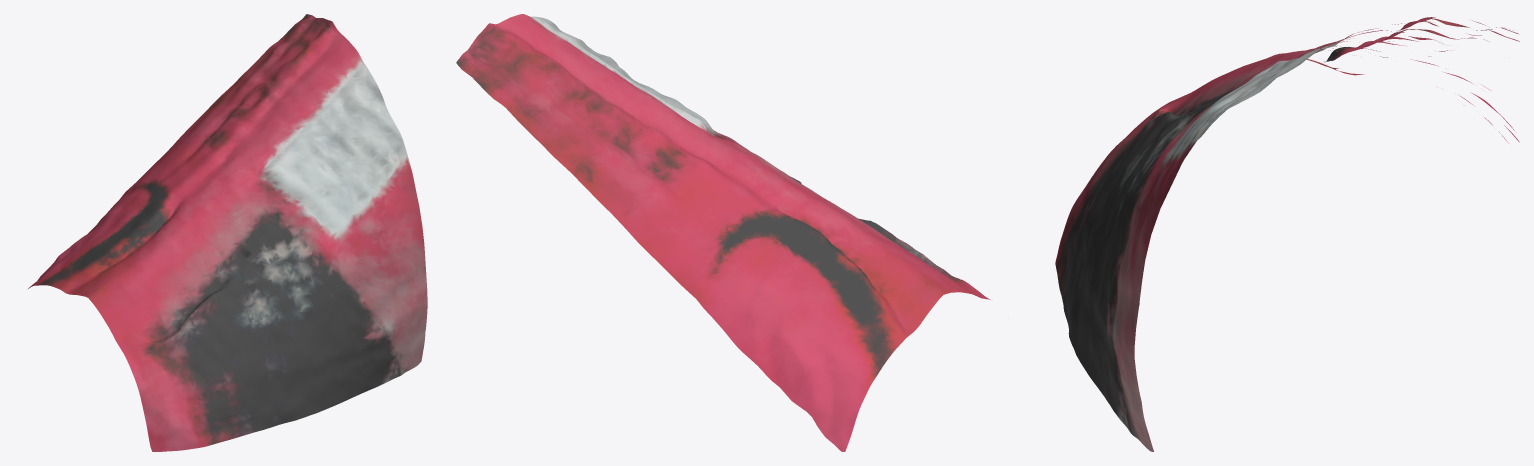
3 renders of one model, left to right at view 1: azimuth 30°, elevation 25°; view 2: azimuth 150°, elevation 25°; view 3: azimuth 270°, elevation 25°, orthographic. The views are drawn at different scales.
Parts seen in each view (by area): view 1: geometry_0; view 2: geometry_0; view 3: geometry_0.
Boxes of the visible parts, <box> form: geometry_0: <box>28,14,427,451</box>; geometry_0: <box>456,14,990,451</box>; geometry_0: <box>1055,17,1519,451</box>.
Bounding box in the file's own units: 2 × 1.81 × 1.72.
